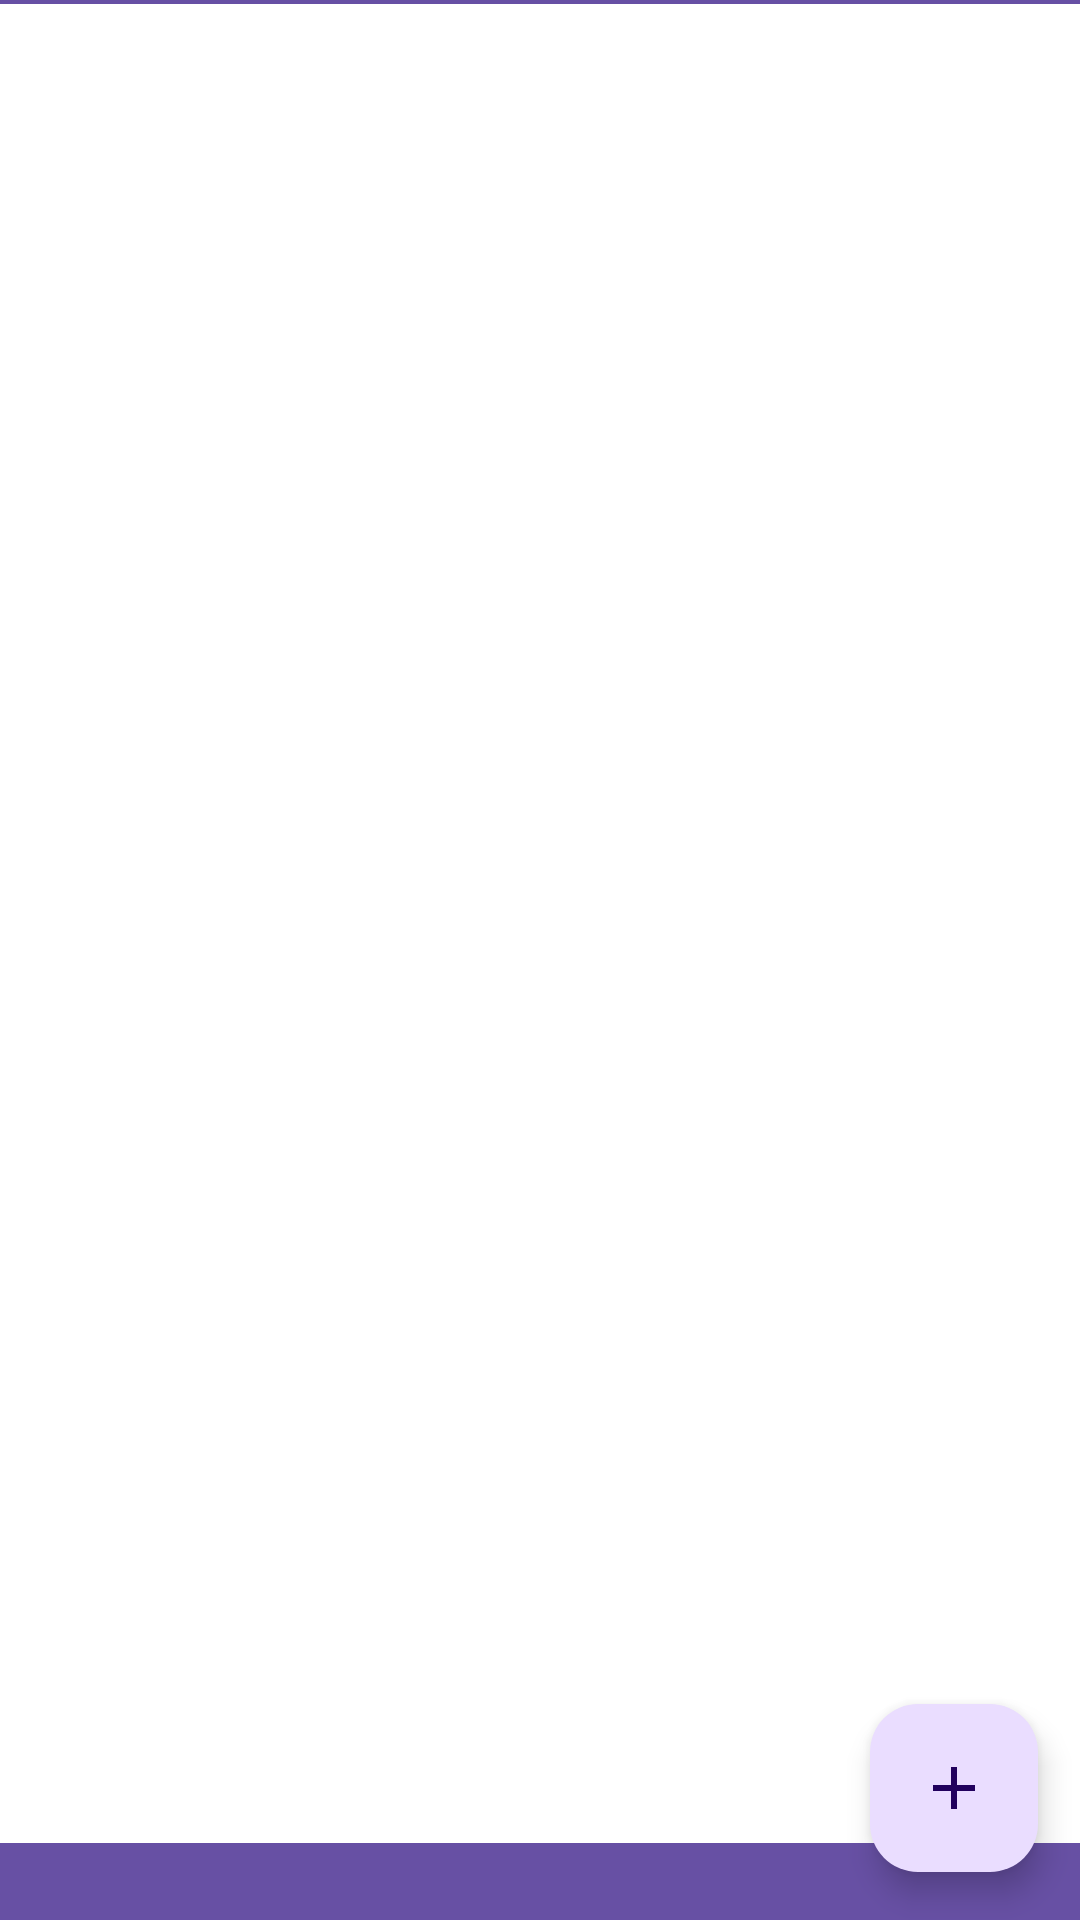

Where to tap for icons on this 1080w x 1920h app screen, as (x,y):
Add Assessment Button: (954,1788)
